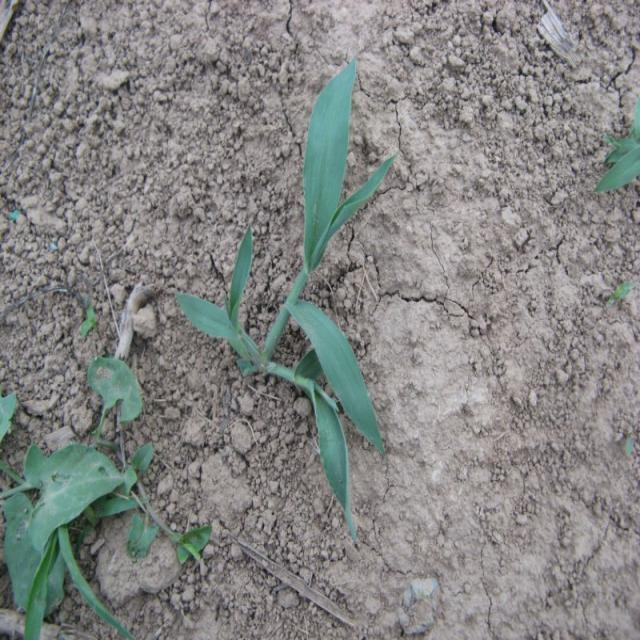bg: (175, 60, 401, 550)
